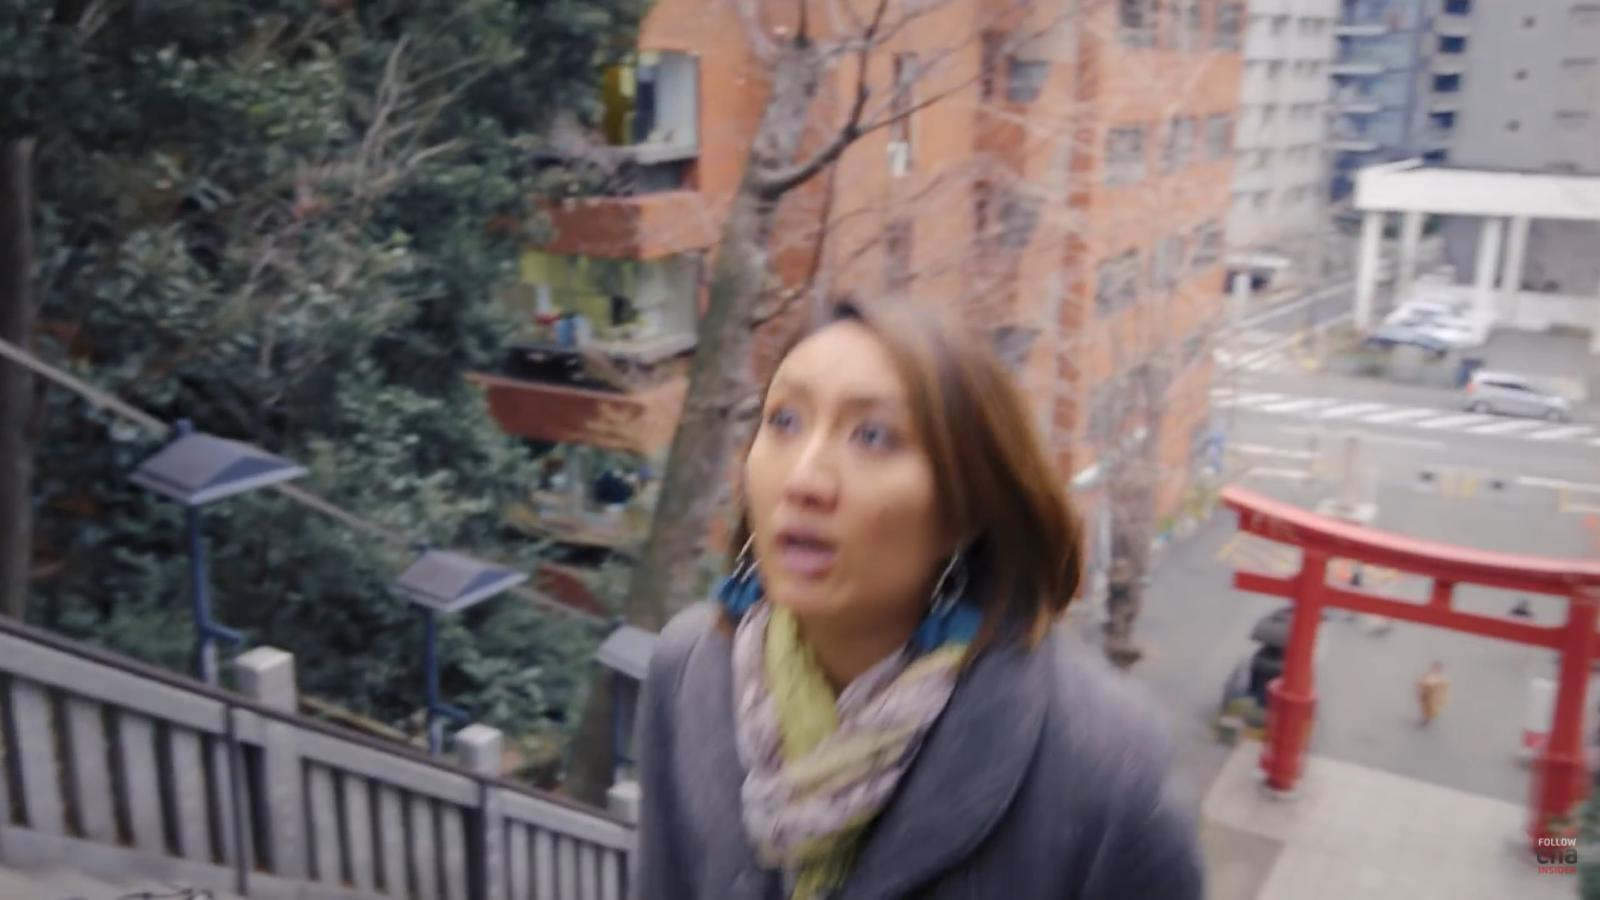without_mask: (767, 396, 910, 598)
